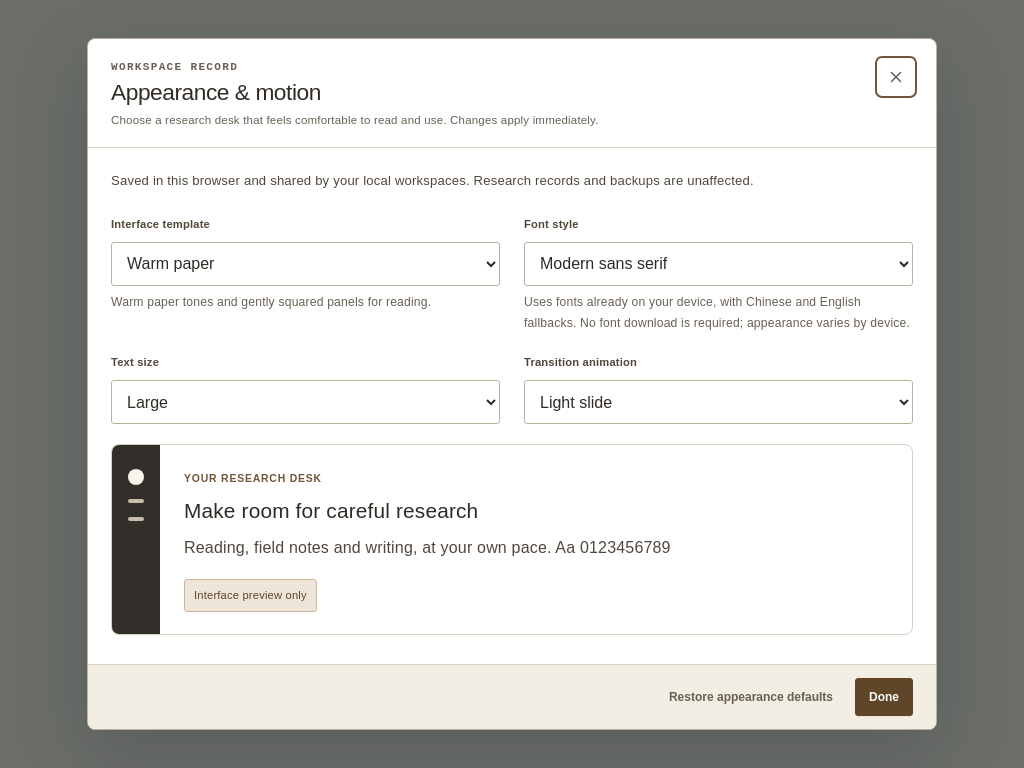
Test case: appearance settings panel › restores only appearance defaults and retains the existing English and dark-mode choices
Click the button "Restore appearance defaults" at (751, 697), box [655, 678, 847, 716]
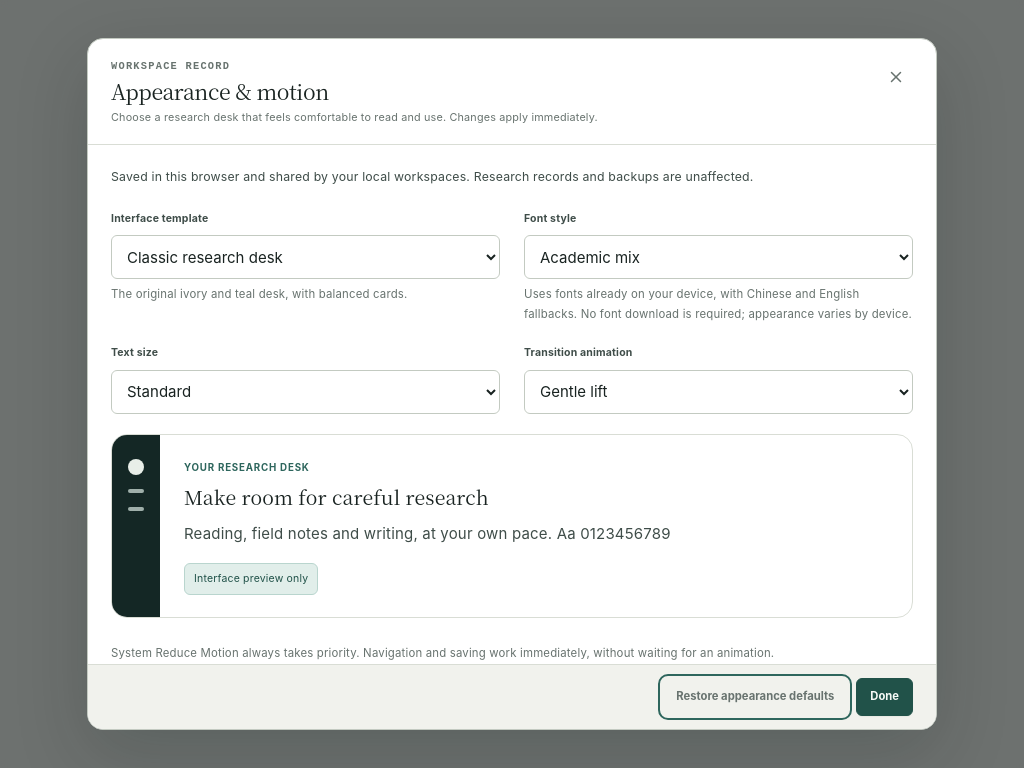
Now the dropdown labelled "Interface template" shows "Classic research desk", box [111, 235, 500, 279]
Now the dropdown labelled "Font style" shows "Academic mix", box [524, 235, 913, 279]
